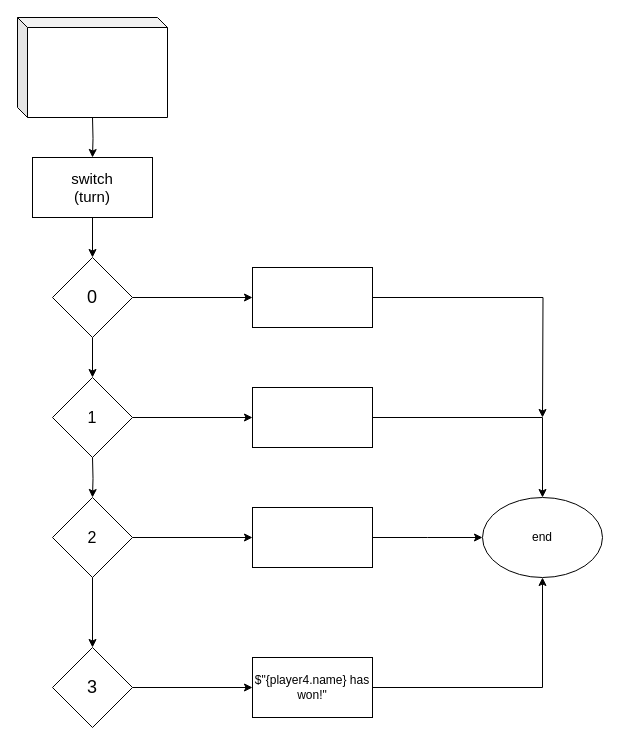
The diagram is 620 pixels wide and 745 high, and some of its shapes have lost their labels. The centre of each missing label's shape, as x and y in pixels:
$"{player1.name} has won!": (x=312, y=297)
$"{player2.name} has won!": (x=312, y=417)
$"{player3.name} has won!": (x=312, y=537)
endGame(): (x=92, y=67)
